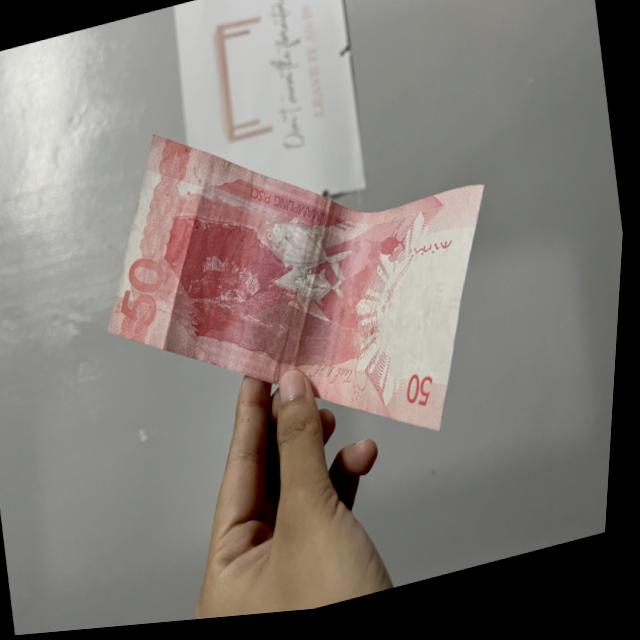see_through_mark: (394, 231, 467, 287)
value_watermark: (428, 285, 455, 321)
